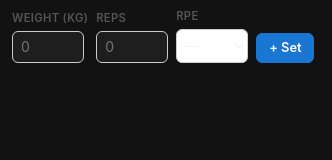
it: SetLogForm › shows validation error when weight is empty
This screenshot has width=332, height=160.
# Leave weight empty, fill reps
Type "5" into the number field labelled "Reps".
click(132, 47); type("5")  # box [96,31,168,63]
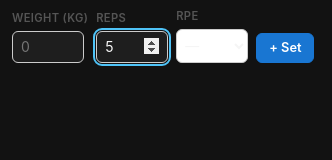
Click the button "+ Set".
click(285, 48)  # box [256,33,314,63]
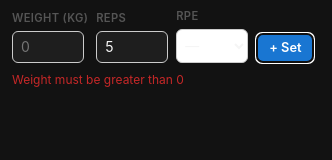
Result: the message reads "Weight must be greater than 0" at [12,72,184,87]
